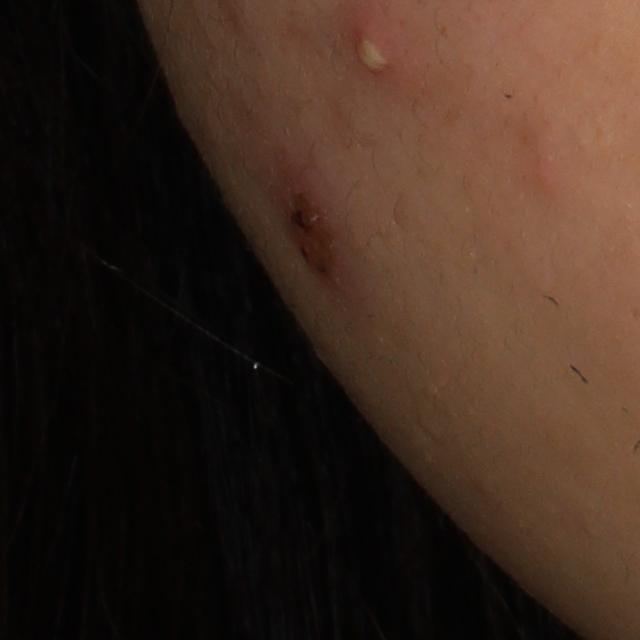nodule: (272, 164, 343, 290)
papule: (519, 145, 584, 204)
pustule: (345, 16, 397, 78)
